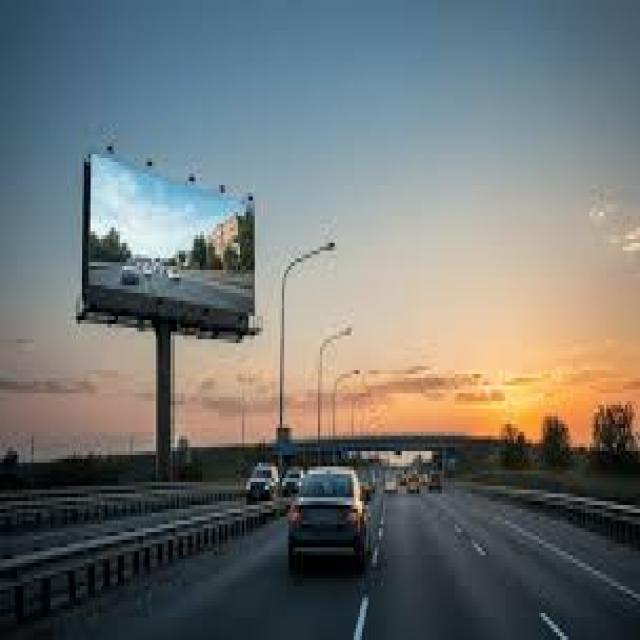Billboard_LHS: (78, 115, 264, 354)
Roadcorner: (70, 521, 277, 636), (484, 508, 638, 607)
Roadlane: (418, 491, 578, 636), (343, 479, 395, 636)
